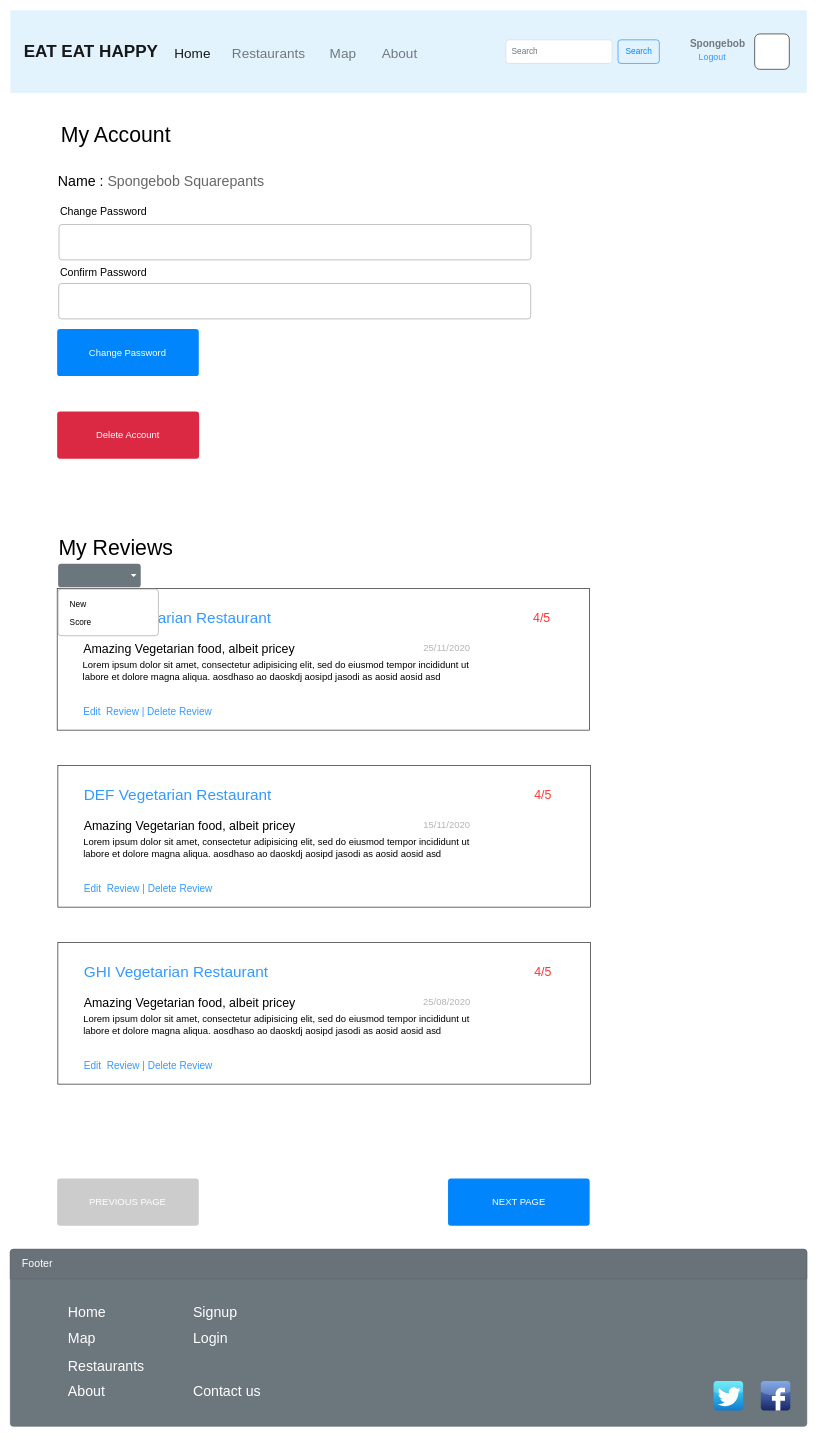
This 817x1437 diagram has some shape labels left out. Each missing label, with the centre of its shape:
"Profile pic" goes at pixel 771 51.
"Sort By" goes at pixel 99 575.
